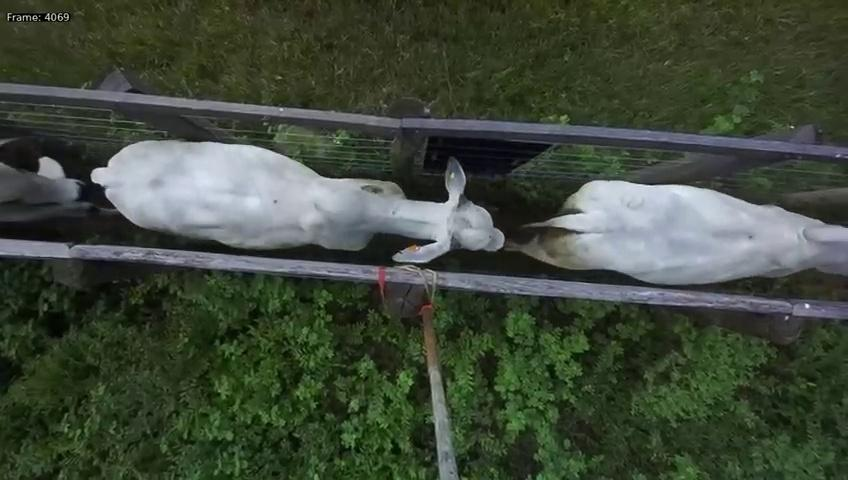cattle: (84, 131, 508, 265)
